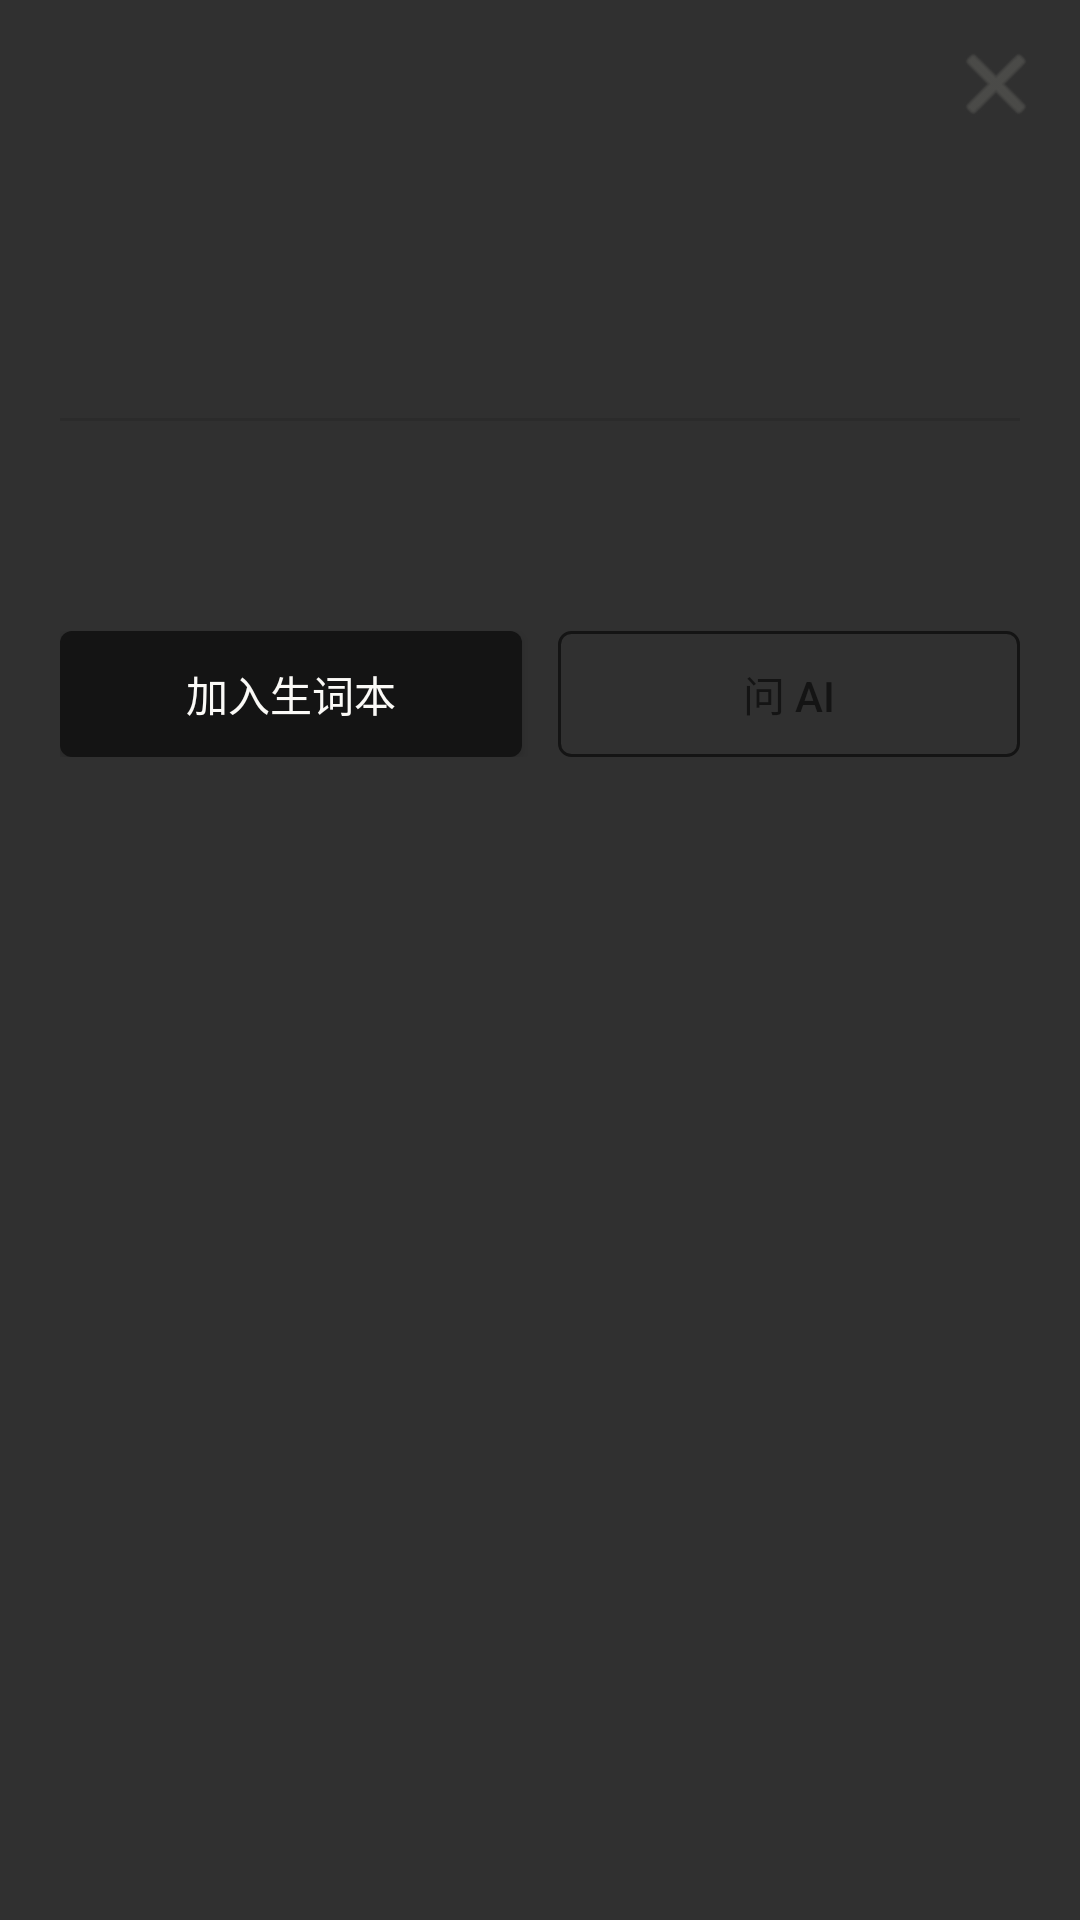

Named icons in this screenshot (1080px×1920px) and their bounding boxes, BBox(x1, y1, x2, y2):
关闭: BBox(969, 57, 1023, 111)
